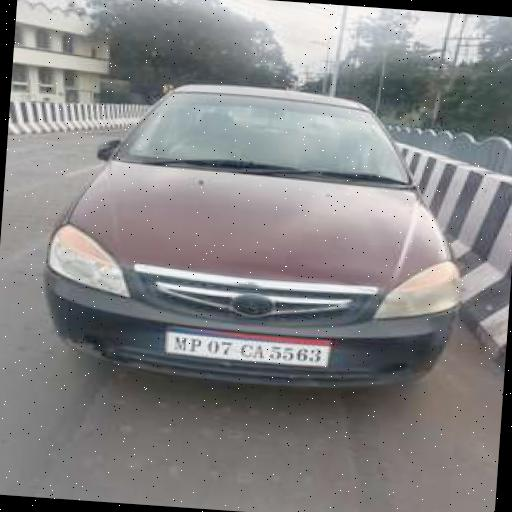license_plate`: (162, 330, 328, 364)
